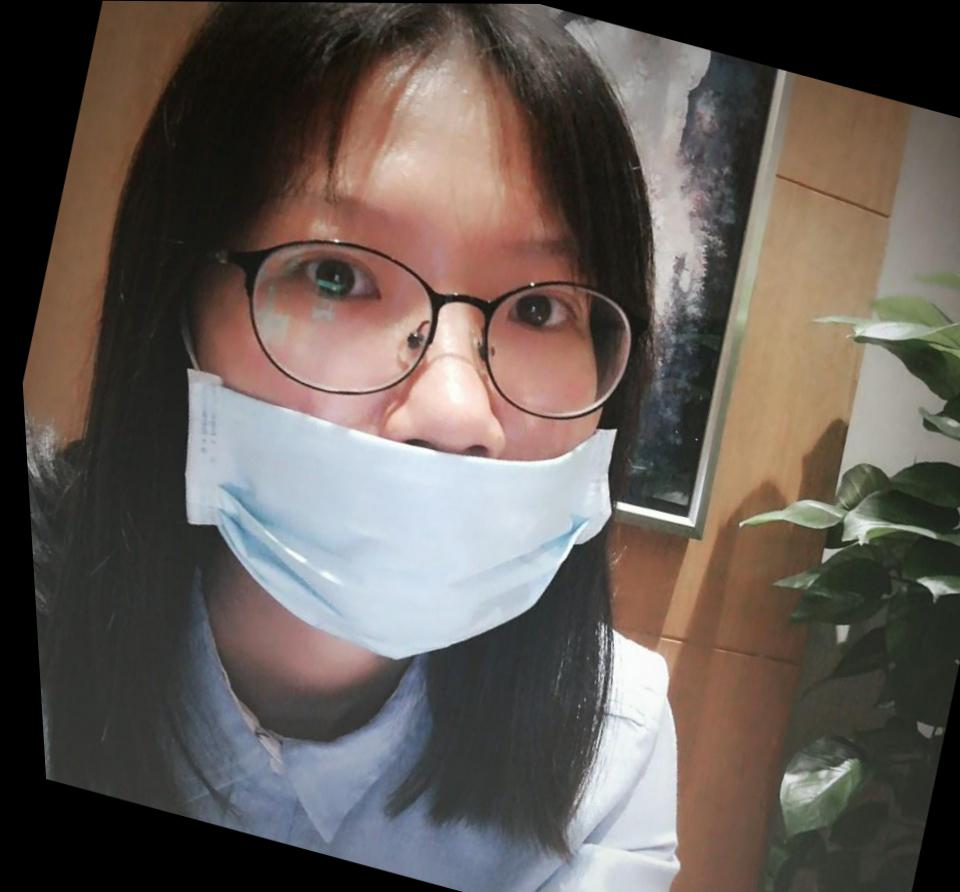WRONG: (78, 102, 673, 700)
